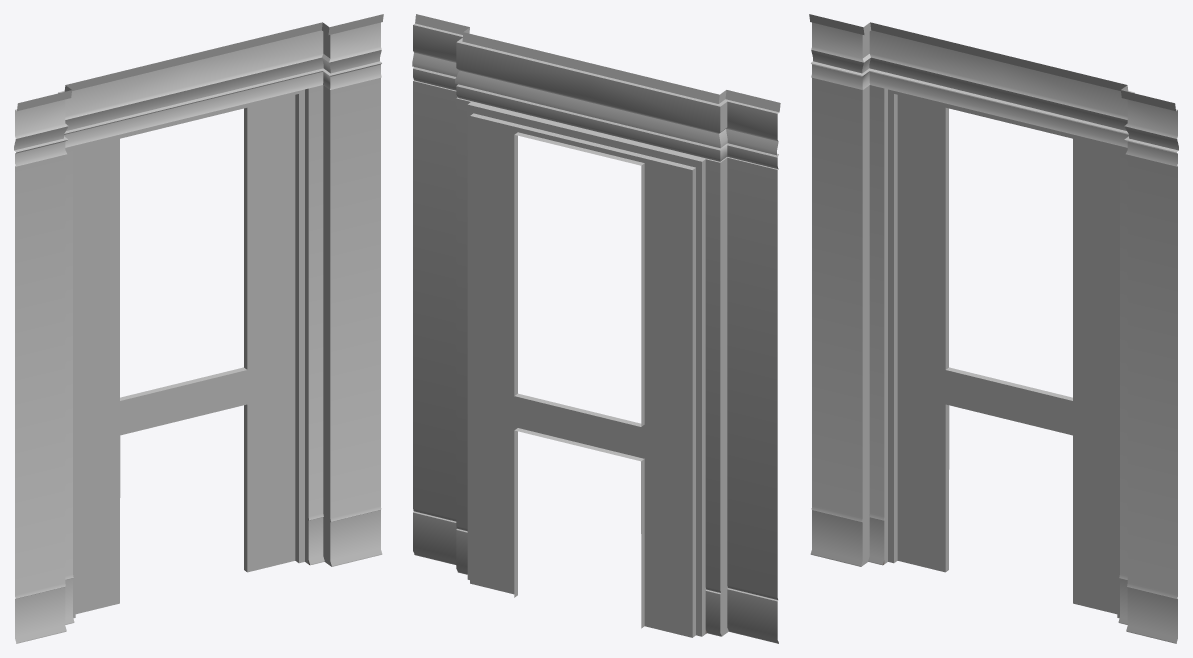
File: Wall_Lrg_Window.FBX
3 views of the same model, side by side, from view 1: azimuth 30°, elevation 25°; view 2: azimuth 150°, elevation 25°; view 3: azimuth 330°, elevation 25° (orthographic).
Visible parts, largest first — view 1: Wall_Lrg_Window; view 2: Wall_Lrg_Window; view 3: Wall_Lrg_Window.
Boxes of the visible parts, box(x1,y1,x2,y2) form: Wall_Lrg_Window: box(14, 14, 383, 643); Wall_Lrg_Window: box(412, 14, 780, 643); Wall_Lrg_Window: box(809, 14, 1178, 643).
Bounding box in the file's own units: 6 × 8.49 × 0.5855.
